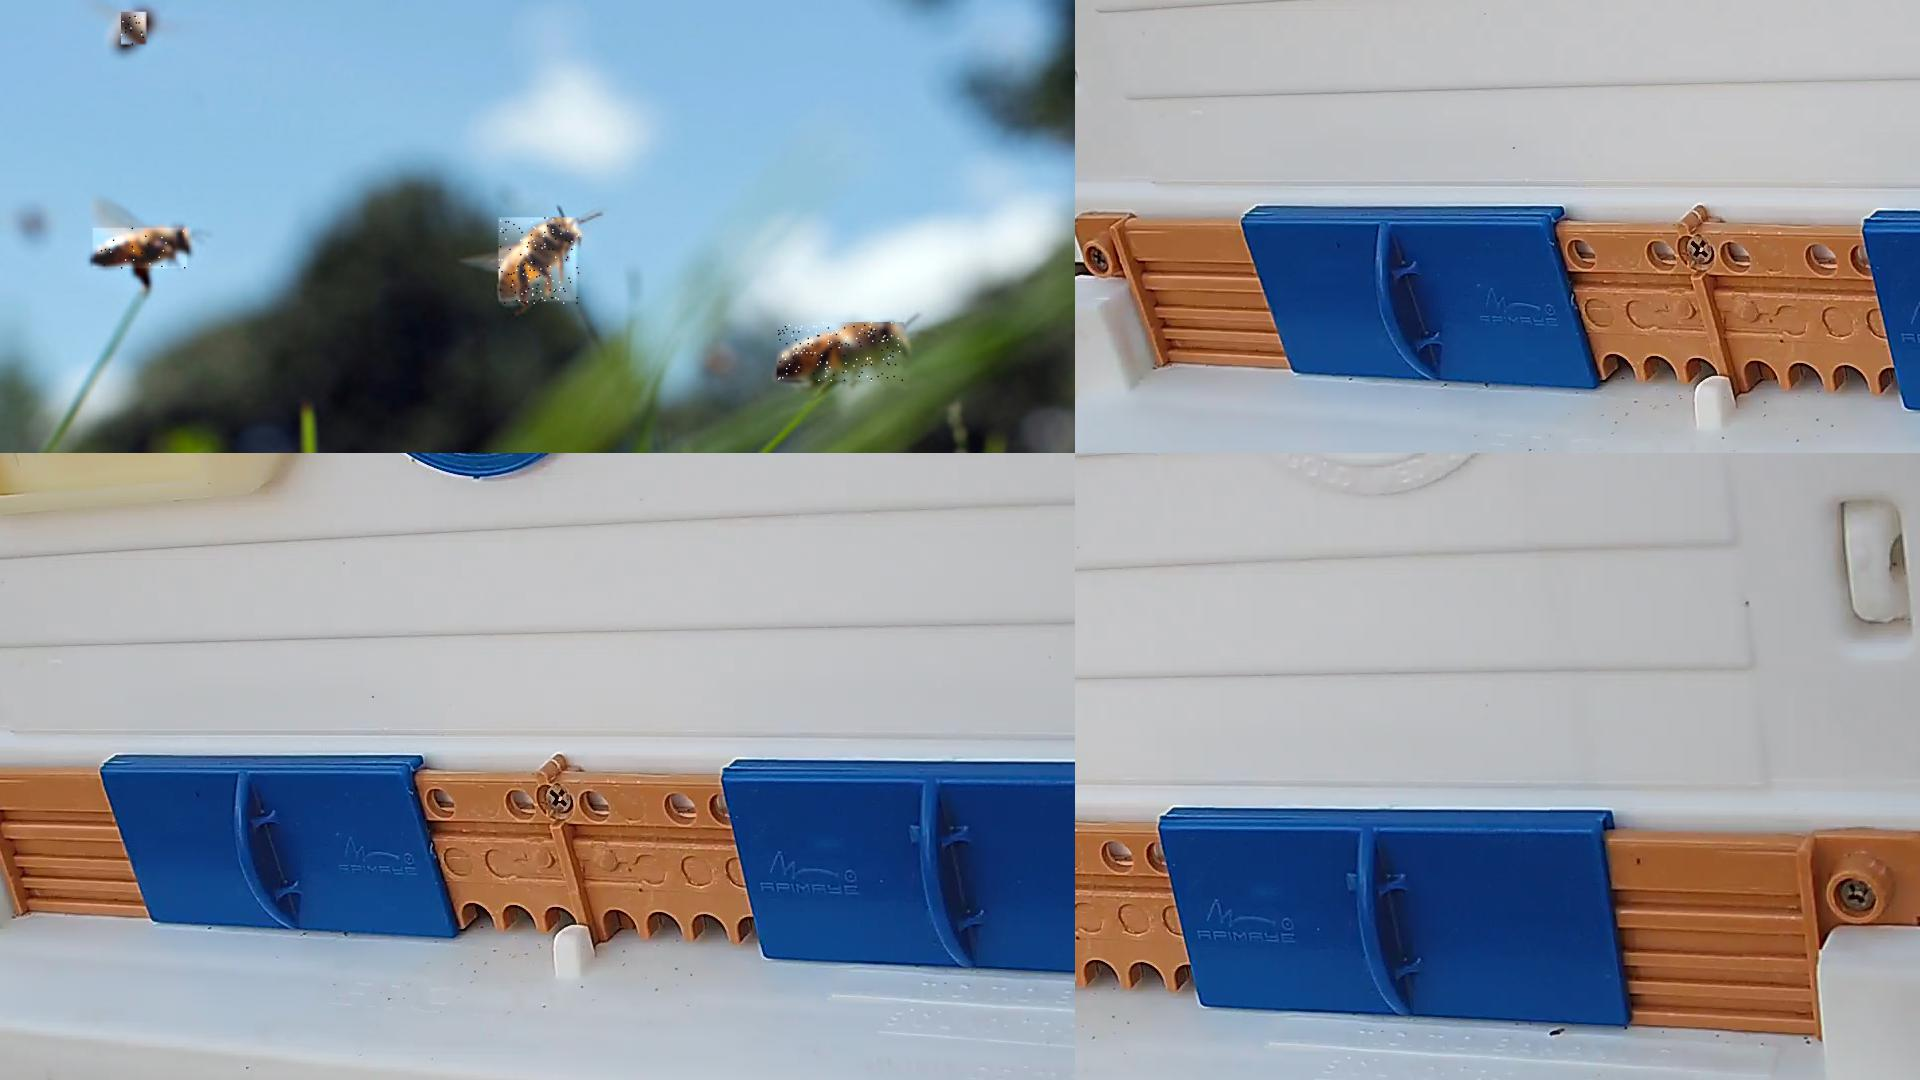bee: (778, 323, 907, 384), (500, 219, 582, 306), (94, 228, 189, 270), (121, 12, 148, 46)
